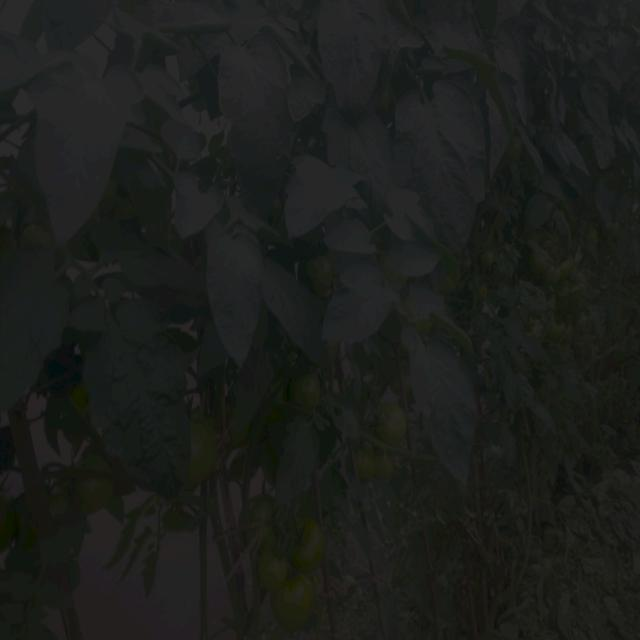tomato: (274, 570, 320, 629), (192, 418, 230, 482), (247, 499, 285, 550), (296, 523, 330, 574), (254, 546, 290, 594), (378, 403, 419, 443), (78, 475, 118, 512), (307, 249, 338, 293), (355, 451, 380, 489), (294, 375, 324, 403), (523, 249, 547, 282), (553, 317, 570, 346), (549, 262, 572, 280), (507, 139, 526, 159), (480, 251, 494, 272)
